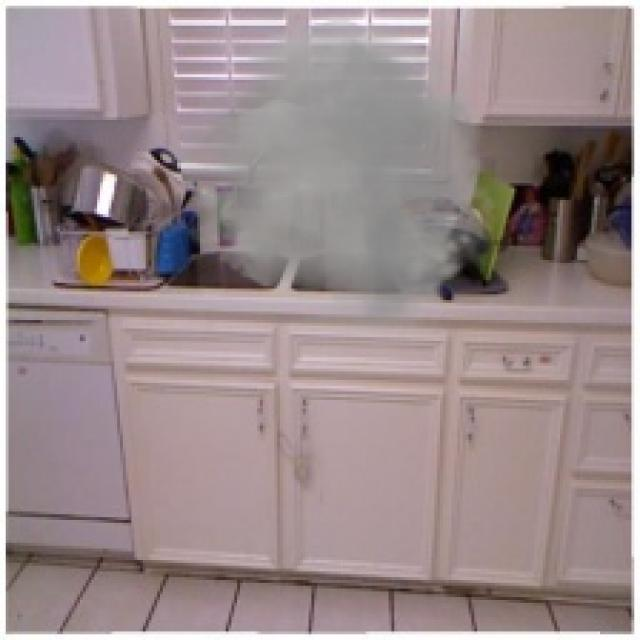Smoke: (154, 12, 512, 357)
